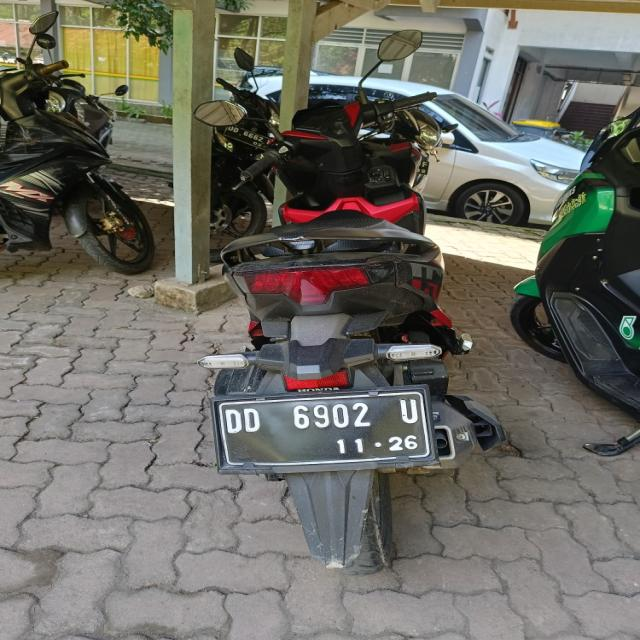plates: (217, 394, 428, 471)
